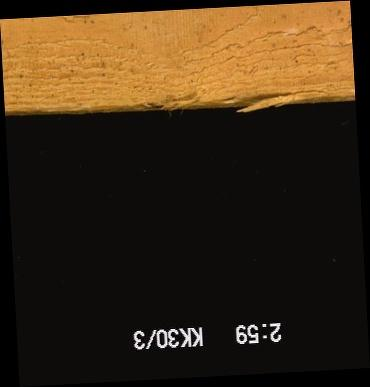split: (240, 89, 329, 102)
